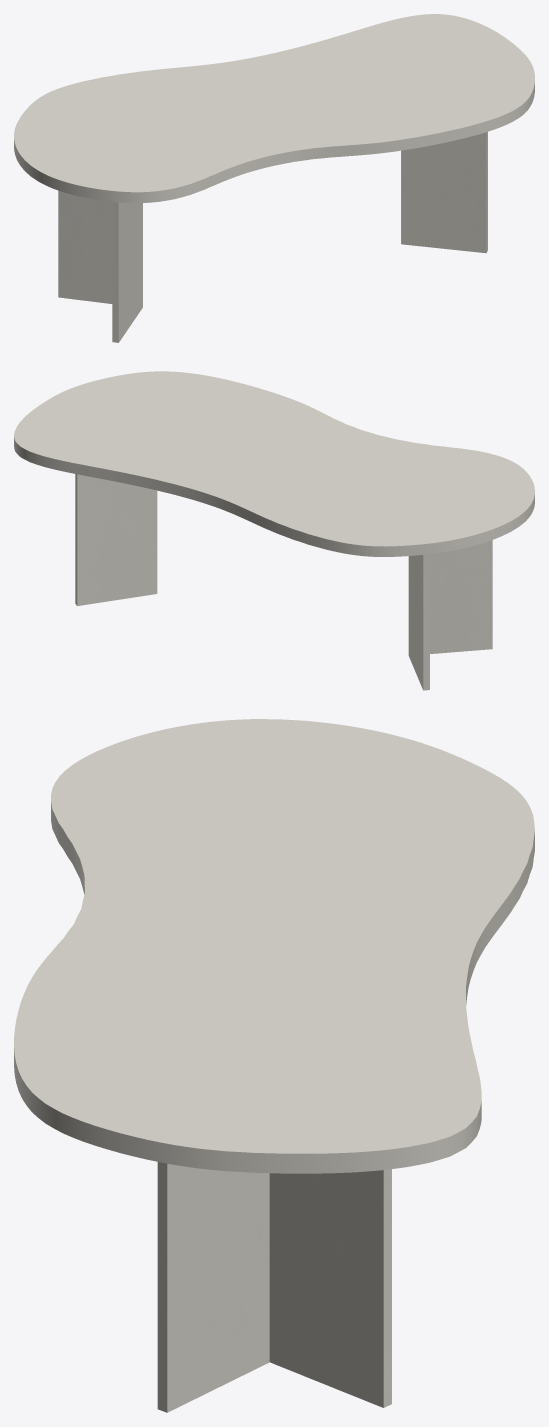
The model's file is pale_wave_standard_valleyv.glb.
3 views of the same model, one above another, from view 1: azimuth 30°, elevation 25°; view 2: azimuth 150°, elevation 25°; view 3: azimuth 270°, elevation 25° (orthographic). The views are drawn at different scales.
Visible parts, largest first — view 1: standard_wave, valleyv; view 2: standard_wave, valleyv; view 3: standard_wave, valleyv.
Part boxes in pixels (bbox=[...]): standard_wave: bbox=[14, 14, 534, 203]; valleyv: bbox=[58, 132, 487, 342]; standard_wave: bbox=[14, 371, 534, 556]; valleyv: bbox=[75, 474, 492, 690]; standard_wave: bbox=[14, 719, 534, 1173]; valleyv: bbox=[157, 1162, 391, 1412].
Bounding box in the file's own units: 7.5 × 2.5 × 3.8.
Materials: 1 (1 with a texture image).
